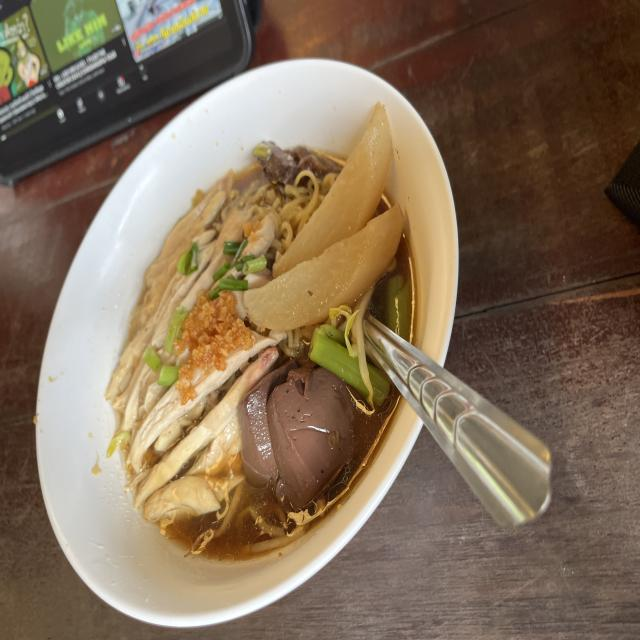noodle: (92, 97, 434, 577)
